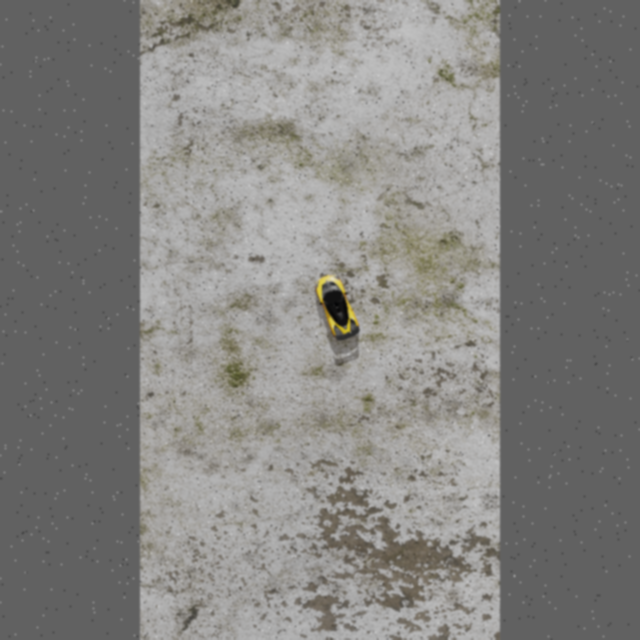car: (309, 270, 363, 344)
